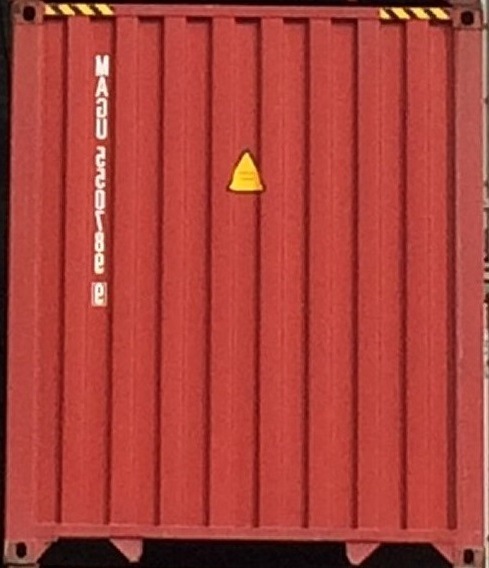container_no_door: (8, 1, 483, 568)
